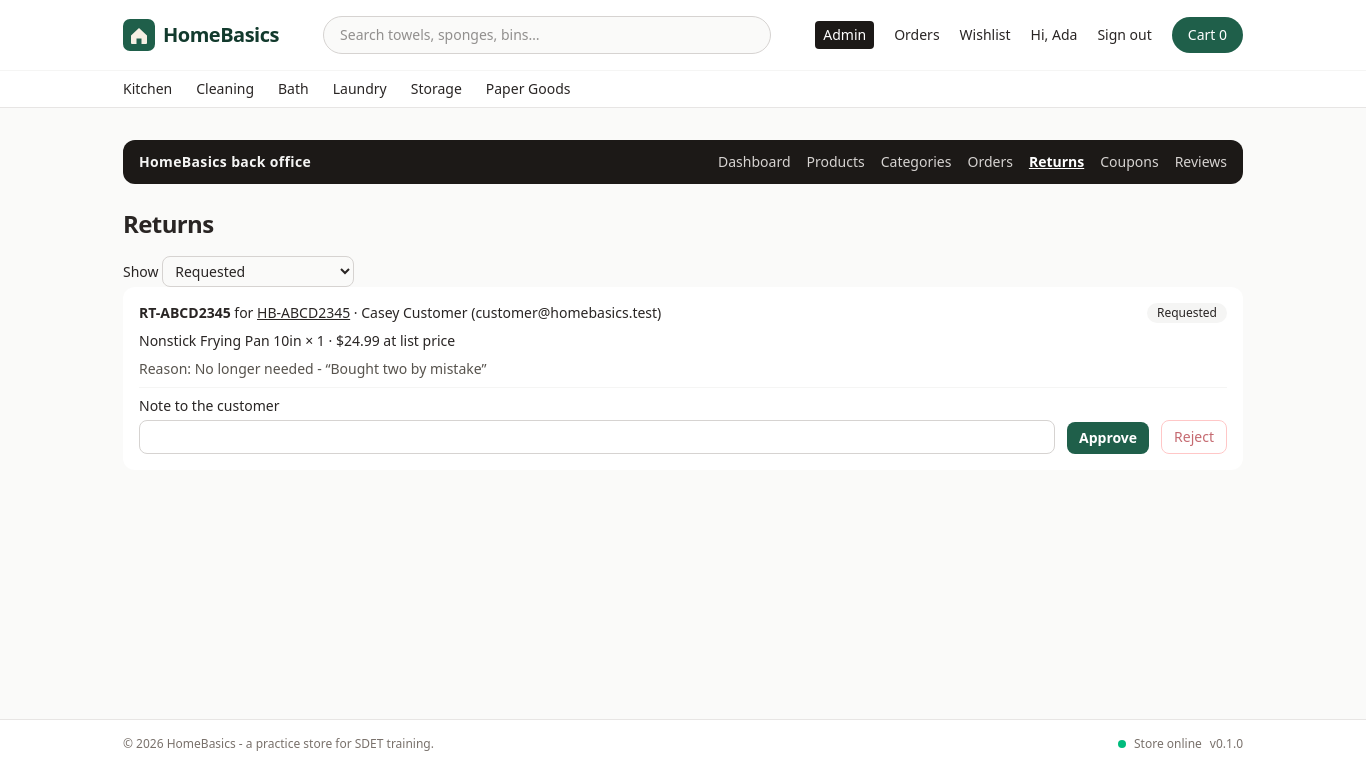
Test: admin returns (ADM-07) › approve a requested return; reject needs a note
Expected: the list item with test id "admin-return" shows "“Bought two by mistake”", [314,359,486,378]
Expected: the button with test id "return-reject" is disabled, [1161,420,1227,454]
Type "x" into the field with test id "return-staff-note" at (597, 437), box [139,420,1055,454]
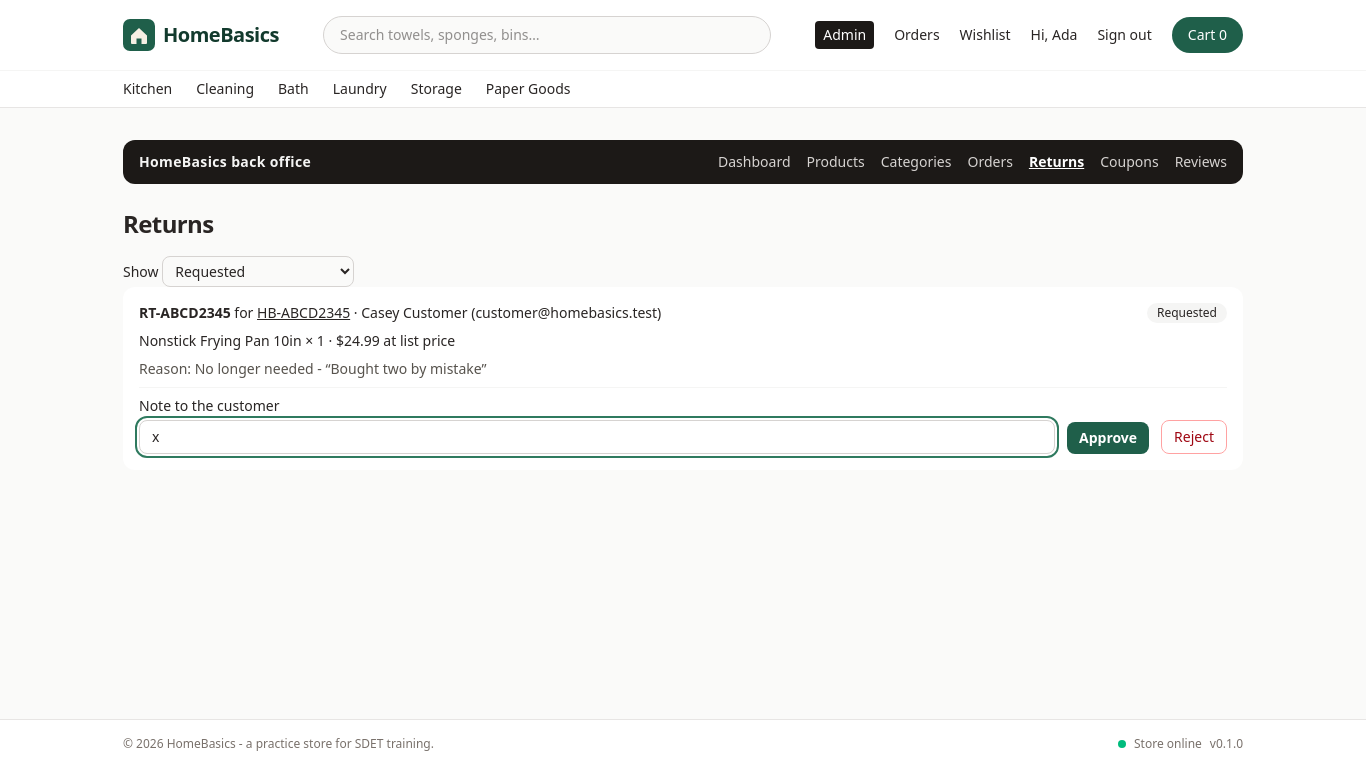
Expected: the button with test id "return-reject" is enabled, [1161,420,1227,454]
Click the button with test id "return-approve" at (1108, 438), box [1067,422,1149,454]
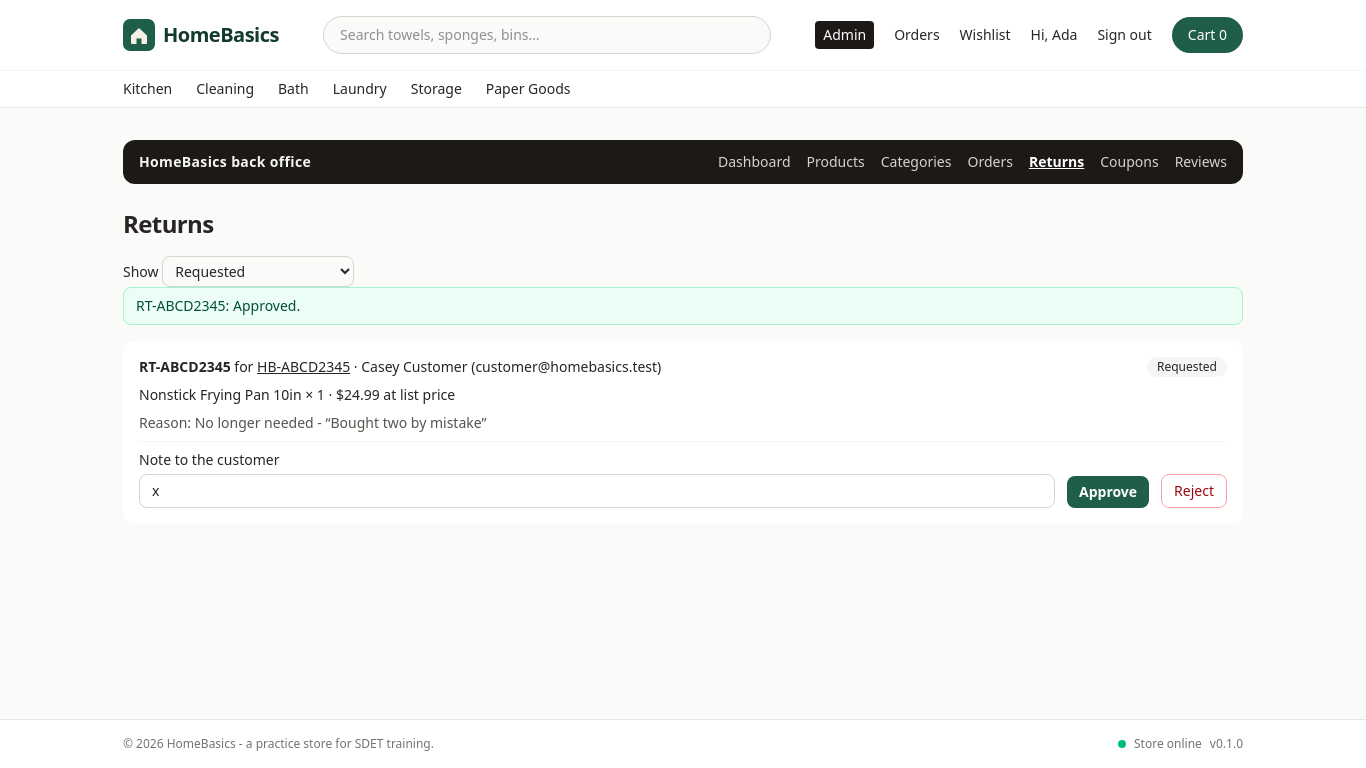
Expected: the message with test id "admin-returns-done" reads "RT-ABCD2345: Approved.", [136,296,300,315]
